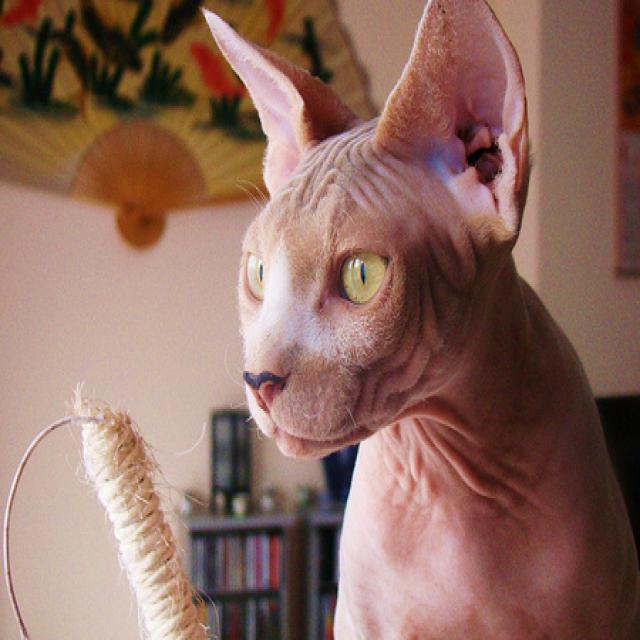Sphynx: (195, 0, 640, 640)
